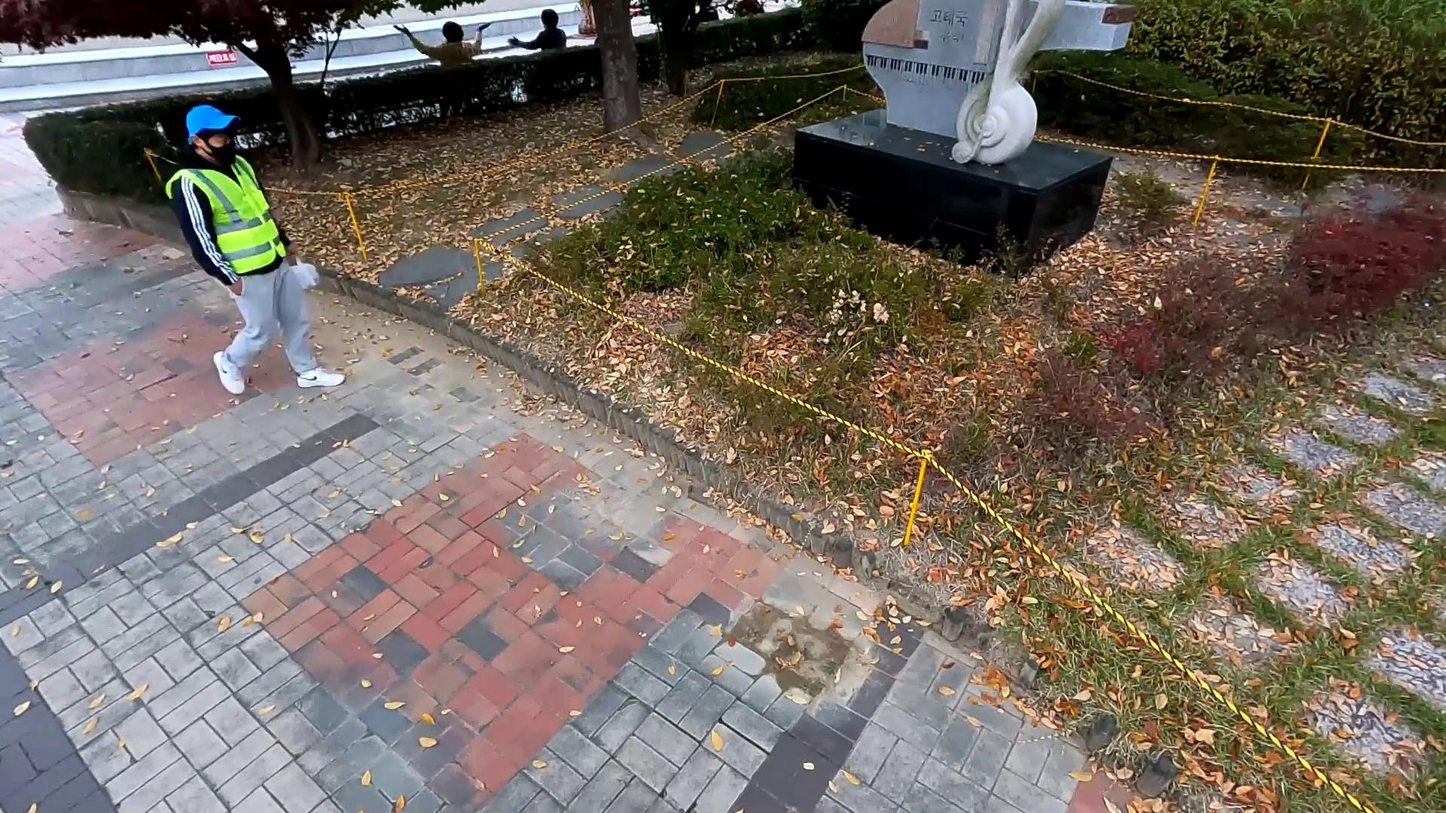person: (158, 99, 347, 396), (510, 10, 568, 50), (426, 21, 479, 63)
trash: (283, 257, 322, 295)
